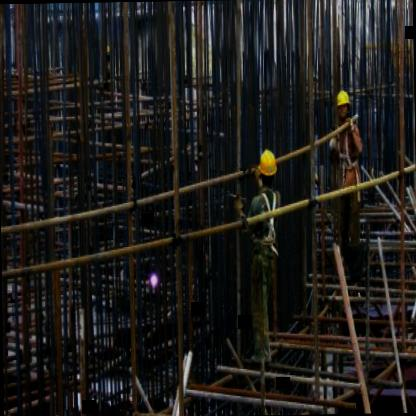helmet: (256, 146, 279, 188), (335, 86, 352, 120)
